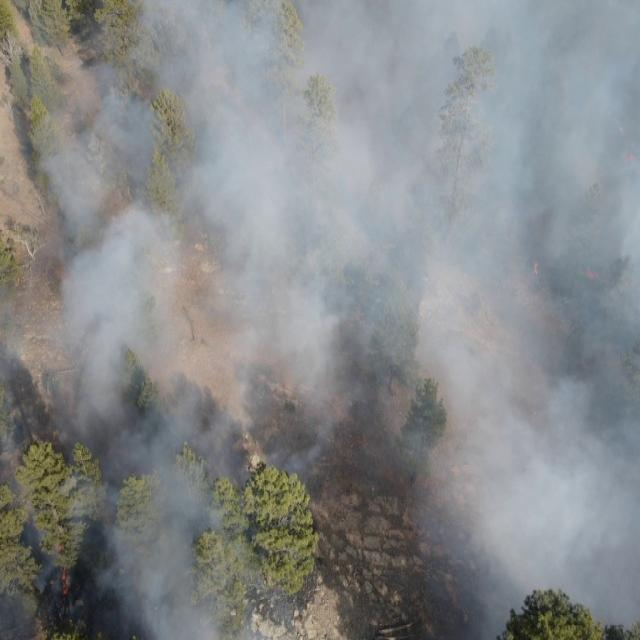fire: (616, 124, 638, 170), (56, 546, 74, 596), (583, 269, 606, 283), (531, 262, 540, 278)
smoke: (0, 0, 640, 640)
